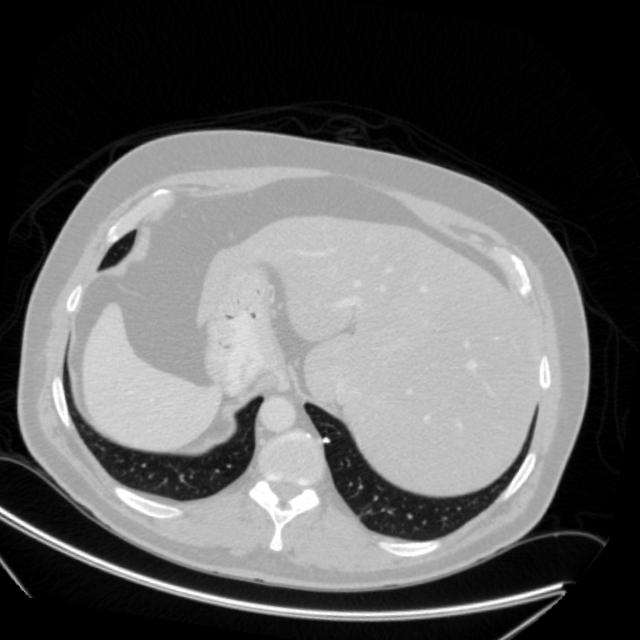nodule: (317, 428, 338, 449)
